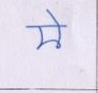o_matra: (52, 13, 64, 48)
